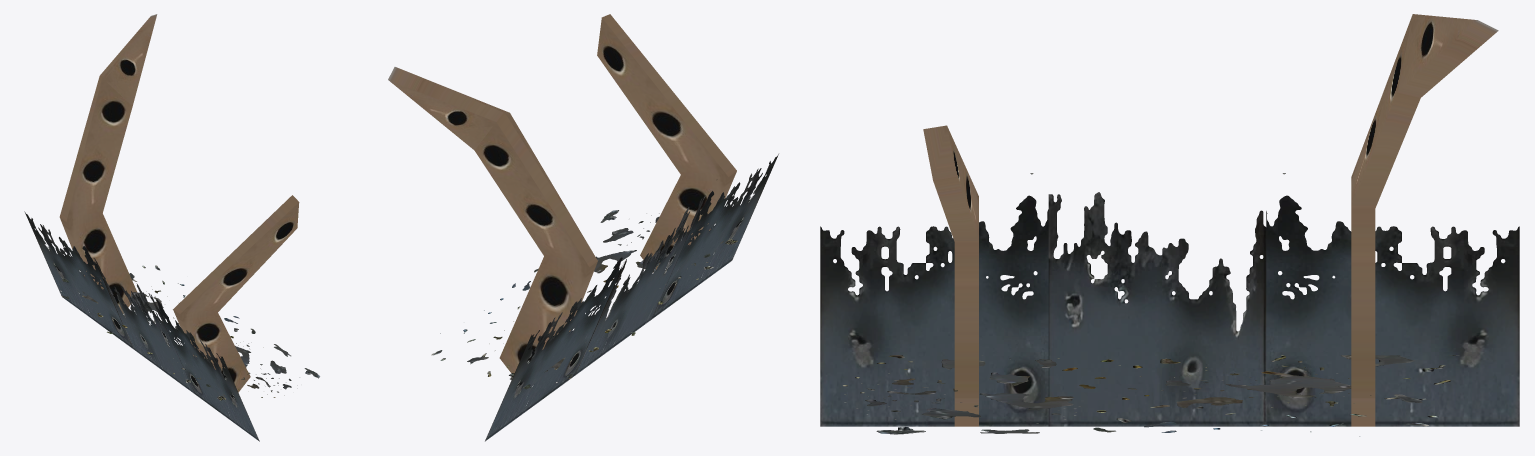
The model's file is crashrib_dam_hdtex.glb.
The picture shows the model from 3 angles, left to right: view 1: azimuth 30°, elevation 25°; view 2: azimuth 150°, elevation 25°; view 3: azimuth 270°, elevation 25°; orthographic projection. The views are drawn at different scales.
Parts seen in each view (by area): view 1: Crash Rib; view 2: Crash Rib; view 3: Crash Rib.
Boxes of the visible parts, box(x1,y1,x2,y2) form: Crash Rib: box(24, 14, 319, 441); Crash Rib: box(388, 14, 778, 441); Crash Rib: box(820, 14, 1519, 436).
Size of the model in its own units: 8.25 by 15.87 by 21.05.
3 materials, 3 textured.
